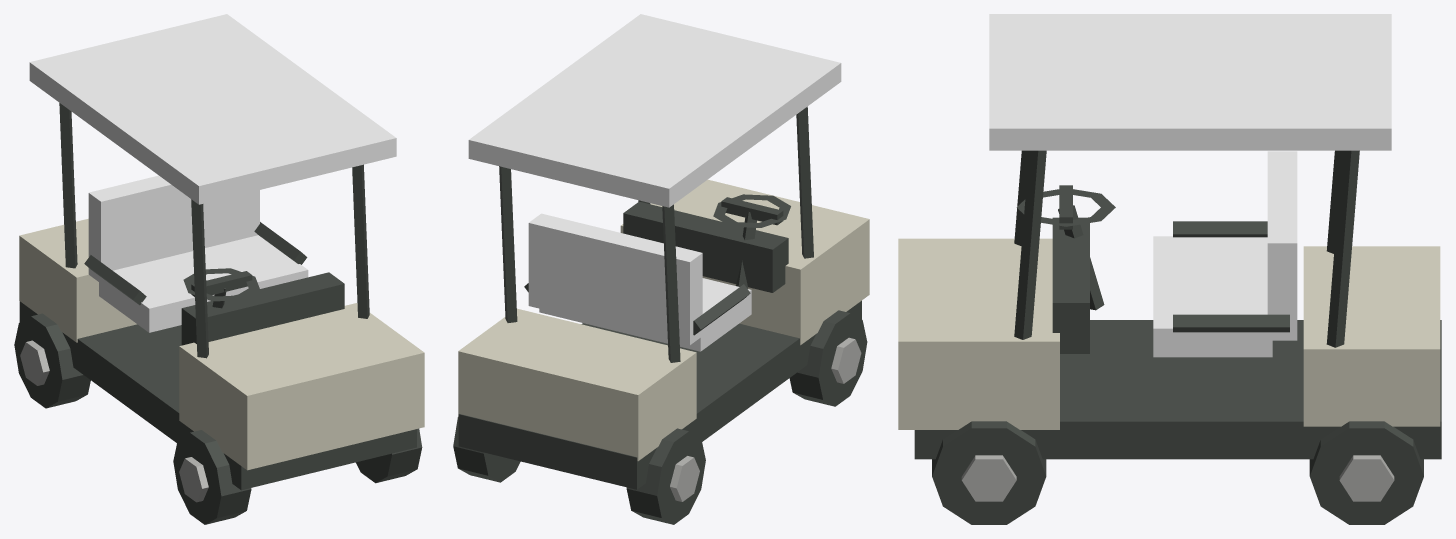
File: golf_cart_01.glb
3 views of the same model, side by side, from view 1: azimuth 30°, elevation 25°; view 2: azimuth 150°, elevation 25°; view 3: azimuth 270°, elevation 25° (orthographic). The views are drawn at different scales.
Parts seen in each view (by area): view 1: Golf_cart_01; view 2: Golf_cart_01; view 3: Golf_cart_01.
Part boxes in pixels (box(x1,y1,x2,y2)): Golf_cart_01: box(14, 14, 424, 524); Golf_cart_01: box(453, 14, 869, 524); Golf_cart_01: box(898, 14, 1441, 524).
Bounding box in the file's own units: 1.22 × 1.82 × 2.26.
